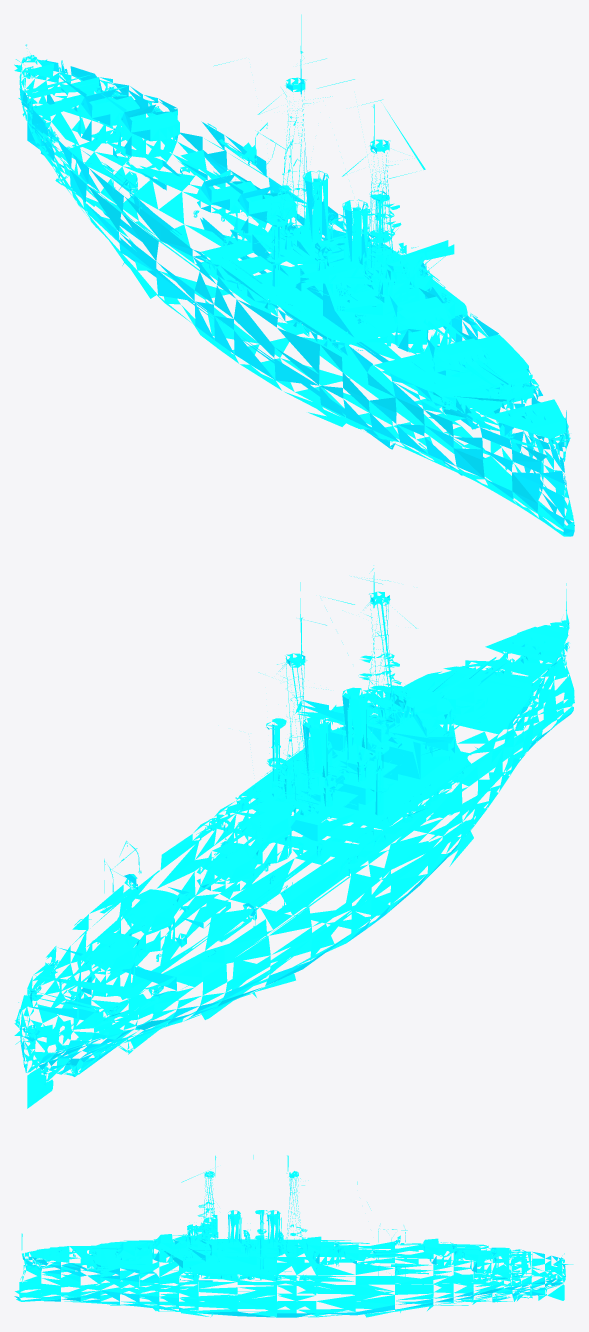
File: PASB013.glb
3 renders of one model, top to bottom at view 1: azimuth 30°, elevation 25°; view 2: azimuth 150°, elevation 25°; view 3: azimuth 270°, elevation 25°, orthographic. The views are drawn at different scales.
Parts seen in each view (by area): view 1: hull_mid, hull_bow, hull_stern, main_battery, secondary_battery; view 2: hull_mid, hull_bow, hull_stern, main_battery, secondary_battery; view 3: hull_mid, hull_bow, hull_stern, main_battery, secondary_battery.
Boxes of the visible parts, x1,y1,x2,y2 form: hull_mid: [69, 14, 498, 446]; hull_bow: [367, 102, 574, 536]; hull_stern: [14, 44, 202, 222]; main_battery: [57, 73, 508, 387]; secondary_battery: [15, 59, 538, 412]; hull_mid: [71, 565, 498, 1030]; hull_bow: [354, 576, 574, 824]; hull_stern: [14, 945, 202, 1108]; main_battery: [60, 657, 508, 990]; secondary_battery: [15, 685, 541, 1044]; hull_mid: [152, 1155, 458, 1317]; hull_bow: [14, 1169, 210, 1311]; hull_stern: [453, 1245, 565, 1305]; main_battery: [86, 1234, 526, 1262]; secondary_battery: [87, 1232, 573, 1280].
Bounding box in the file's own units: 2.04 × 3.75 × 11.6.
